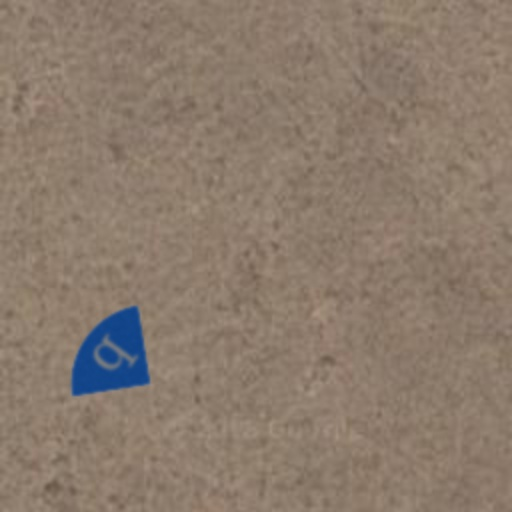quarter_circle: (36, 280, 188, 432)
